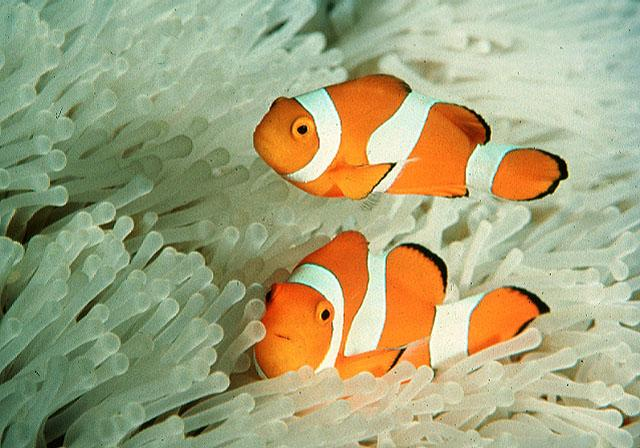Mulut: (240, 120, 286, 156), (264, 323, 304, 361)
Sirip Dada: (327, 152, 417, 226)
Sirip Ekor: (491, 124, 592, 230)
Sirip Punggung: (357, 64, 503, 156), (321, 226, 455, 314)
